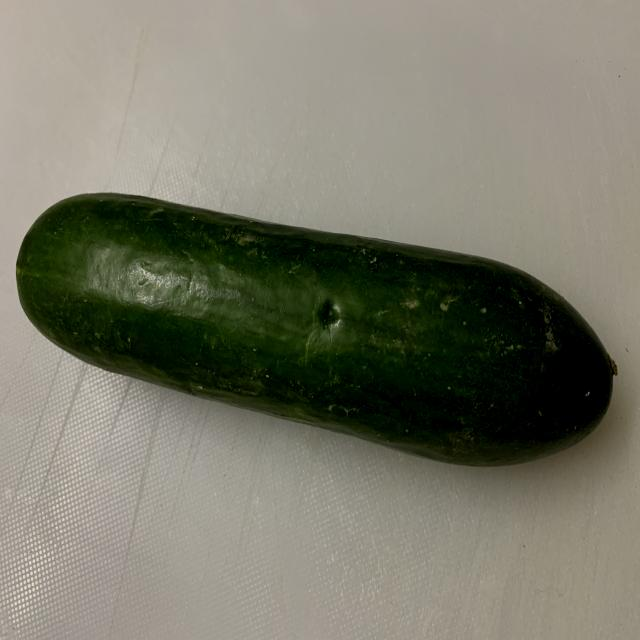Cucumber: (17, 181, 620, 475)
